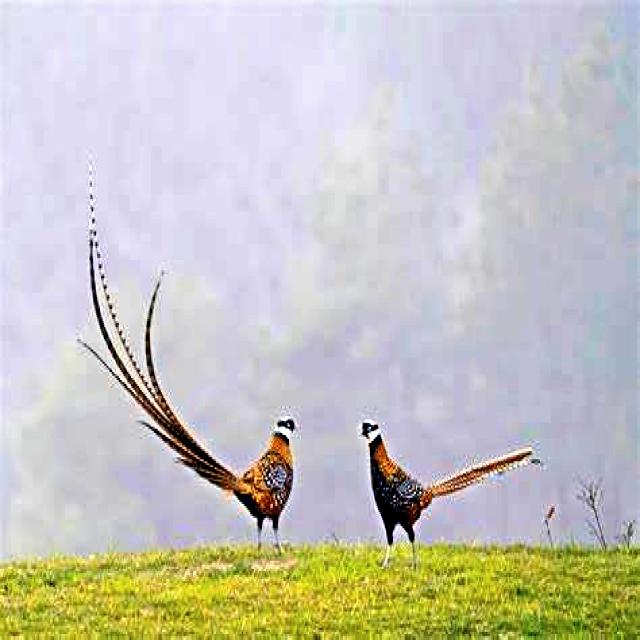Reeves-s Pheasant: (91, 193, 231, 486), (431, 447, 532, 494)
